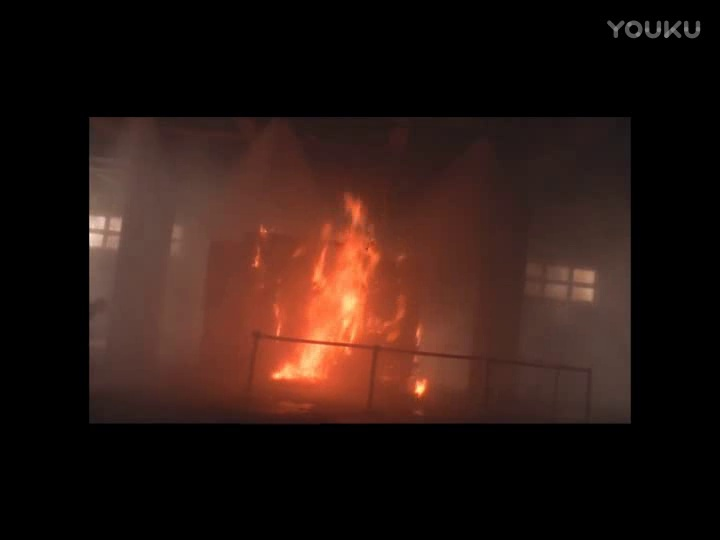fire: (270, 185, 408, 382), (409, 371, 429, 393)
